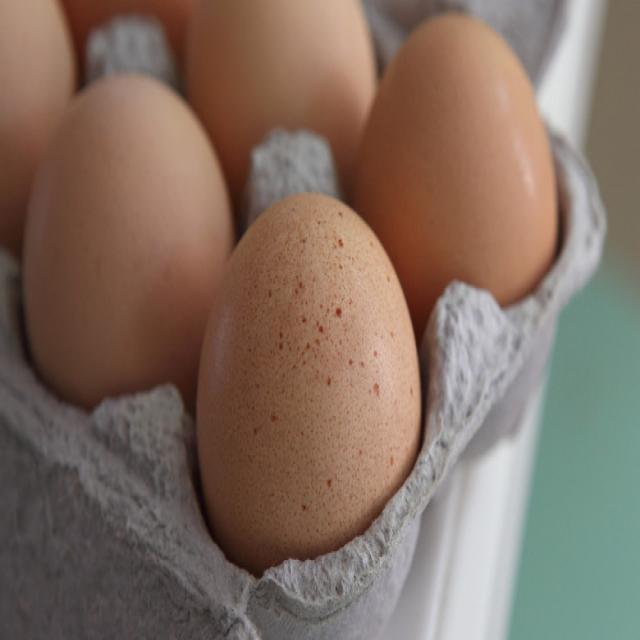eggs: (197, 193, 421, 574), (20, 72, 235, 410), (354, 13, 558, 311), (184, 0, 376, 182), (0, 0, 71, 243)
